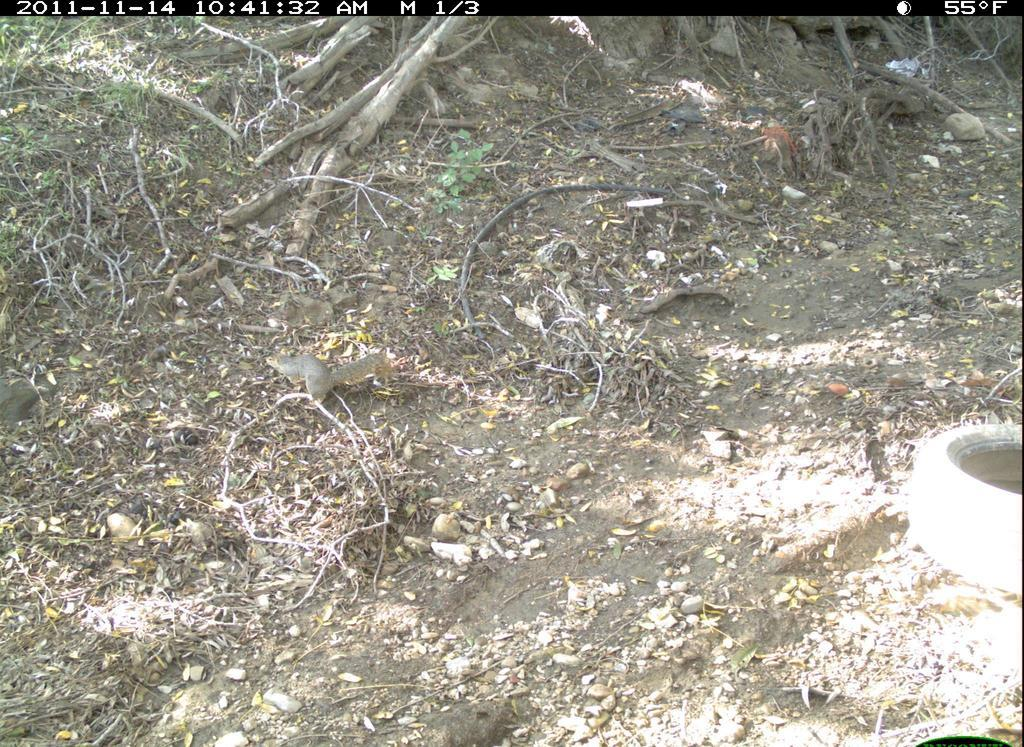squirrel: (255, 329, 397, 418)
